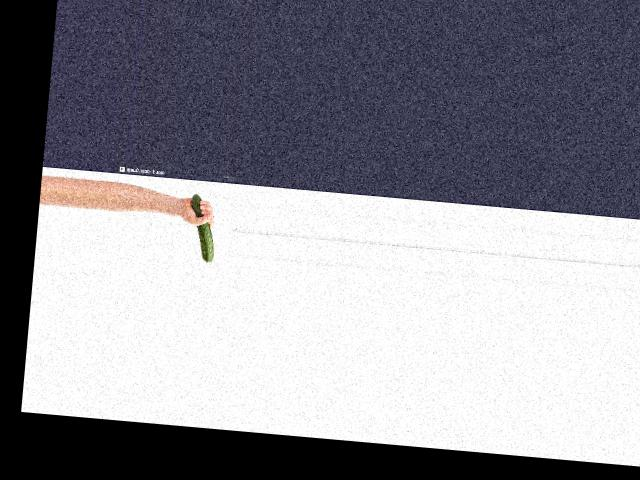cucumber: (187, 194, 219, 262)
